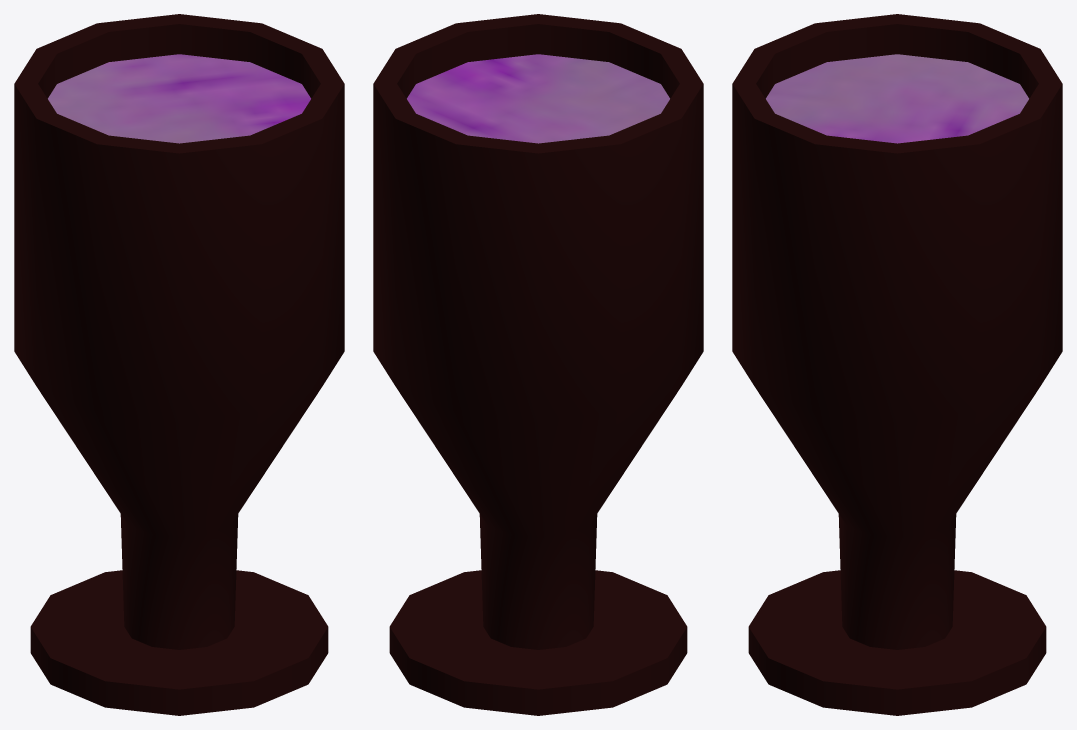
The model's file is glassware-01.fbx.
3 renders of one model, left to right at view 1: azimuth 30°, elevation 25°; view 2: azimuth 150°, elevation 25°; view 3: azimuth 270°, elevation 25°, orthographic.
Visible parts, largest first — view 1: Cylinder.051; view 2: Cylinder.051; view 3: Cylinder.051.
Boxes of the visible parts, left/top/right/bottom form: Cylinder.051: left=14, top=14, right=344, bottom=715; Cylinder.051: left=373, top=14, right=703, bottom=715; Cylinder.051: left=732, top=14, right=1062, bottom=715.
Size of the model in its own units: 0.0759 by 0.1444 by 0.0759.
